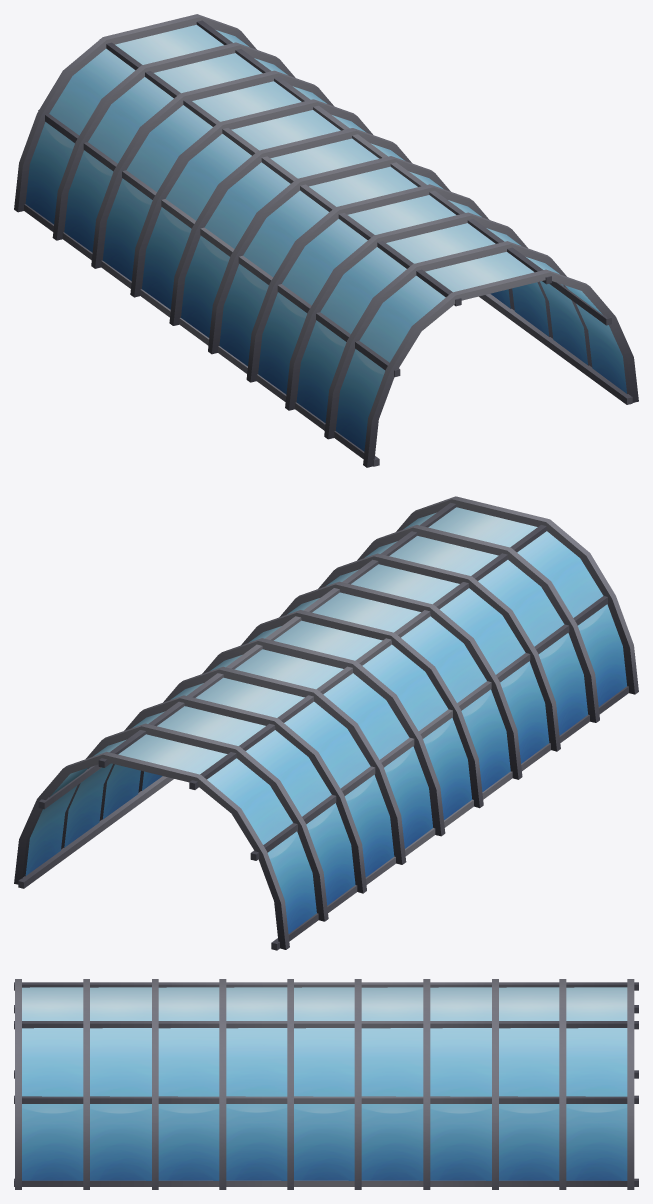
The model's file is Parnik.fbx.
The picture shows the model from 3 angles, top to bottom: view 1: azimuth 30°, elevation 25°; view 2: azimuth 150°, elevation 25°; view 3: azimuth 270°, elevation 25°; orthographic projection. The views are drawn at different scales.
Parts seen in each view (by area): view 1: Parnik; view 2: Parnik; view 3: Parnik.
Boxes of the visible parts, x1=… form: Parnik: x1=14, y1=14, x2=638, y2=467; Parnik: x1=14, y1=496, x2=638, y2=950; Parnik: x1=14, y1=979, x2=638, y2=1189.
Size of the model in its own units: 19.27 by 10.21 by 43.72.
